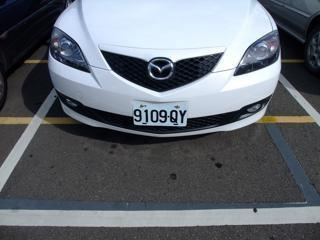plate: (130, 100, 189, 127)
